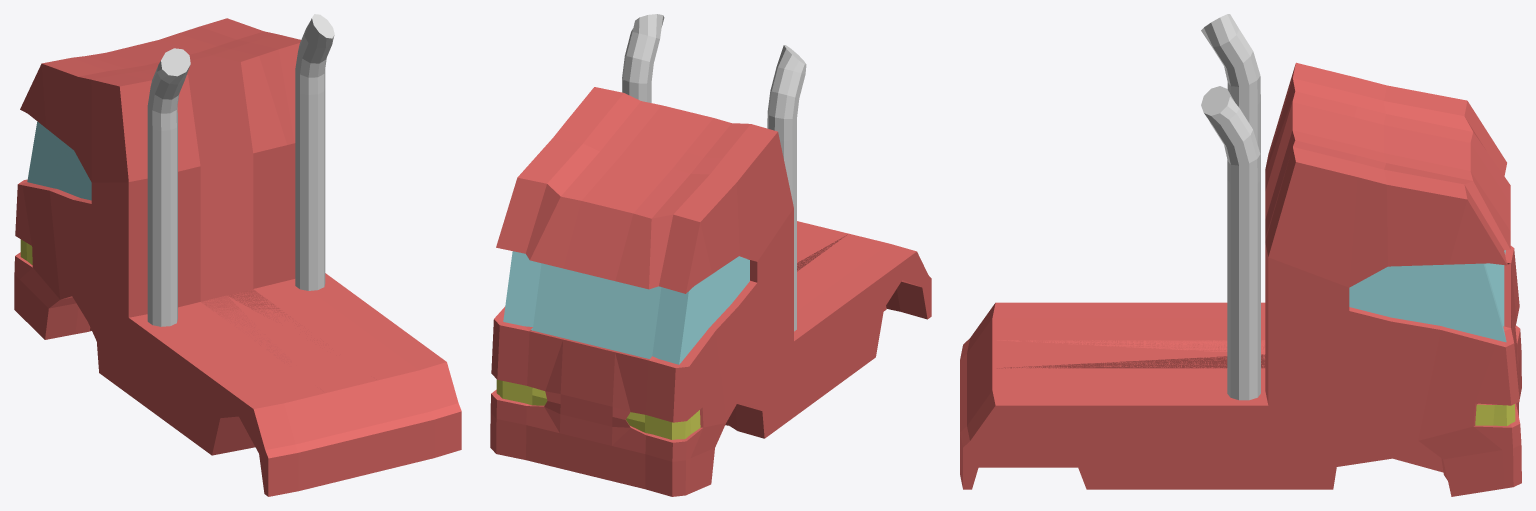
The model's file is truckhead1.fbx.
3 renders of one model, left to right at view 1: azimuth 30°, elevation 25°; view 2: azimuth 150°, elevation 25°; view 3: azimuth 270°, elevation 25°, orthographic. The views are drawn at different scales.
Parts seen in each view (by area): view 1: Cube; view 2: Cube; view 3: Cube.
Part boxes in pixels (x1,y1,x2,y2): Cube: [14, 14, 461, 496]; Cube: [490, 14, 931, 496]; Cube: [960, 14, 1521, 496].
Size of the model in its own units: 74.6 by 130 by 168.
